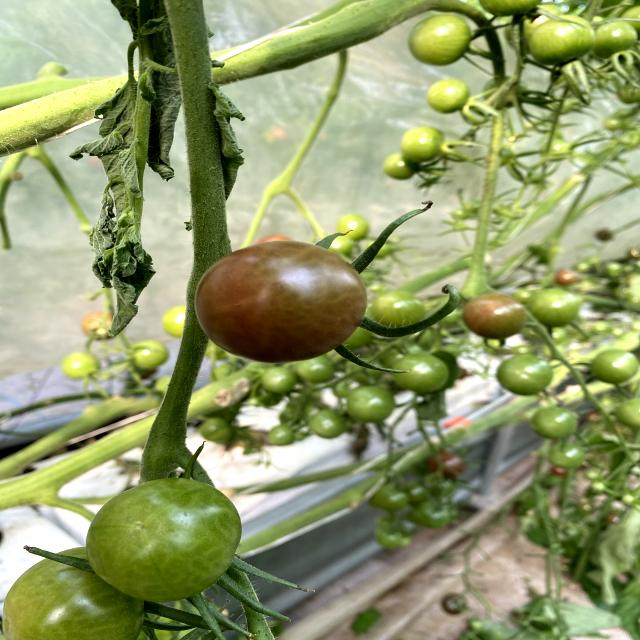ripe0: (87, 477, 242, 606), (526, 14, 596, 65), (408, 13, 472, 64)
ripe1: (196, 240, 368, 362), (463, 291, 526, 339)
